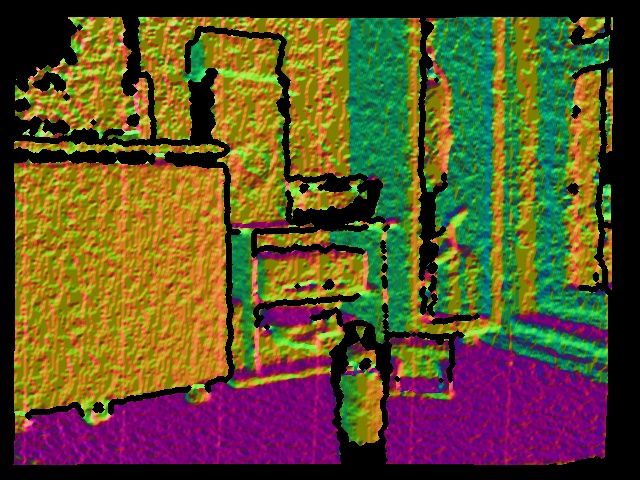station: (386, 333, 456, 399)
